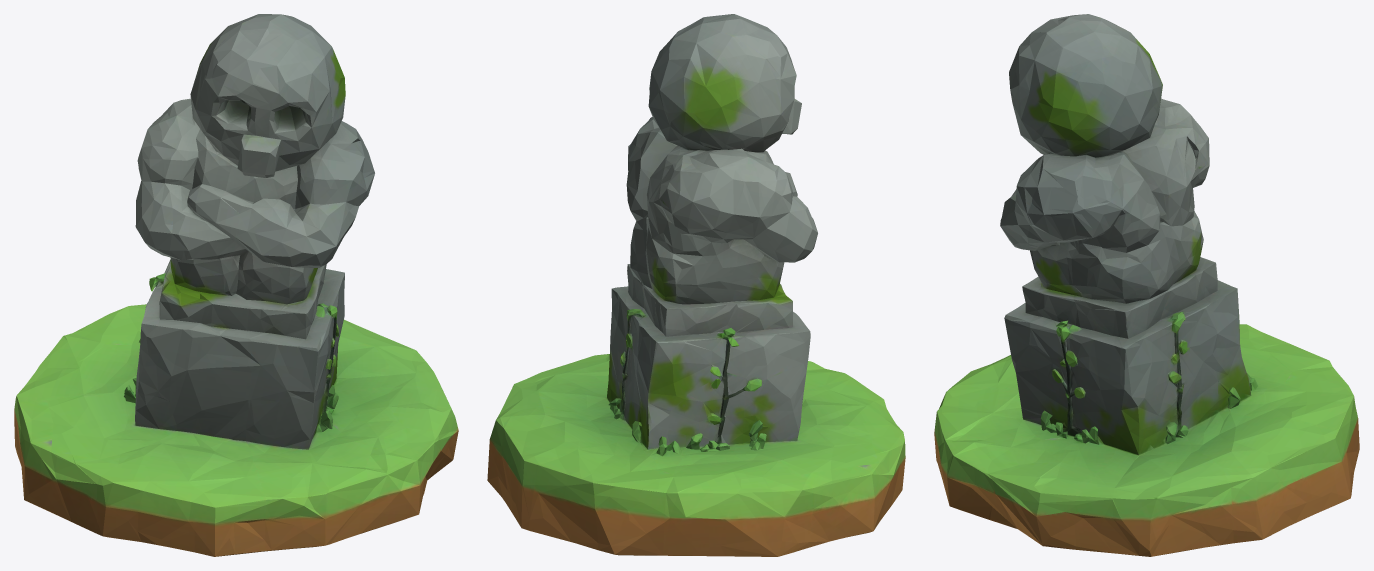
File: island-statue.glb
The picture shows the model from 3 angles, left to right: view 1: azimuth 30°, elevation 25°; view 2: azimuth 150°, elevation 25°; view 3: azimuth 270°, elevation 25°; orthographic projection. The views are drawn at different scales.
Parts seen in each view (by area): view 1: tripo_node_fcd9945b-4328-4926-8ca2-5f7d031b22bd; view 2: tripo_node_fcd9945b-4328-4926-8ca2-5f7d031b22bd; view 3: tripo_node_fcd9945b-4328-4926-8ca2-5f7d031b22bd.
Boxes of the visible parts, box(x1,y1,x2,y2) form: tripo_node_fcd9945b-4328-4926-8ca2-5f7d031b22bd: box(14, 14, 458, 556); tripo_node_fcd9945b-4328-4926-8ca2-5f7d031b22bd: box(487, 14, 905, 556); tripo_node_fcd9945b-4328-4926-8ca2-5f7d031b22bd: box(934, 14, 1359, 556).
Bounding box in the file's own units: 0.8823 × 0.9999 × 0.8569.
Materials: 1 (1 with a texture image).
